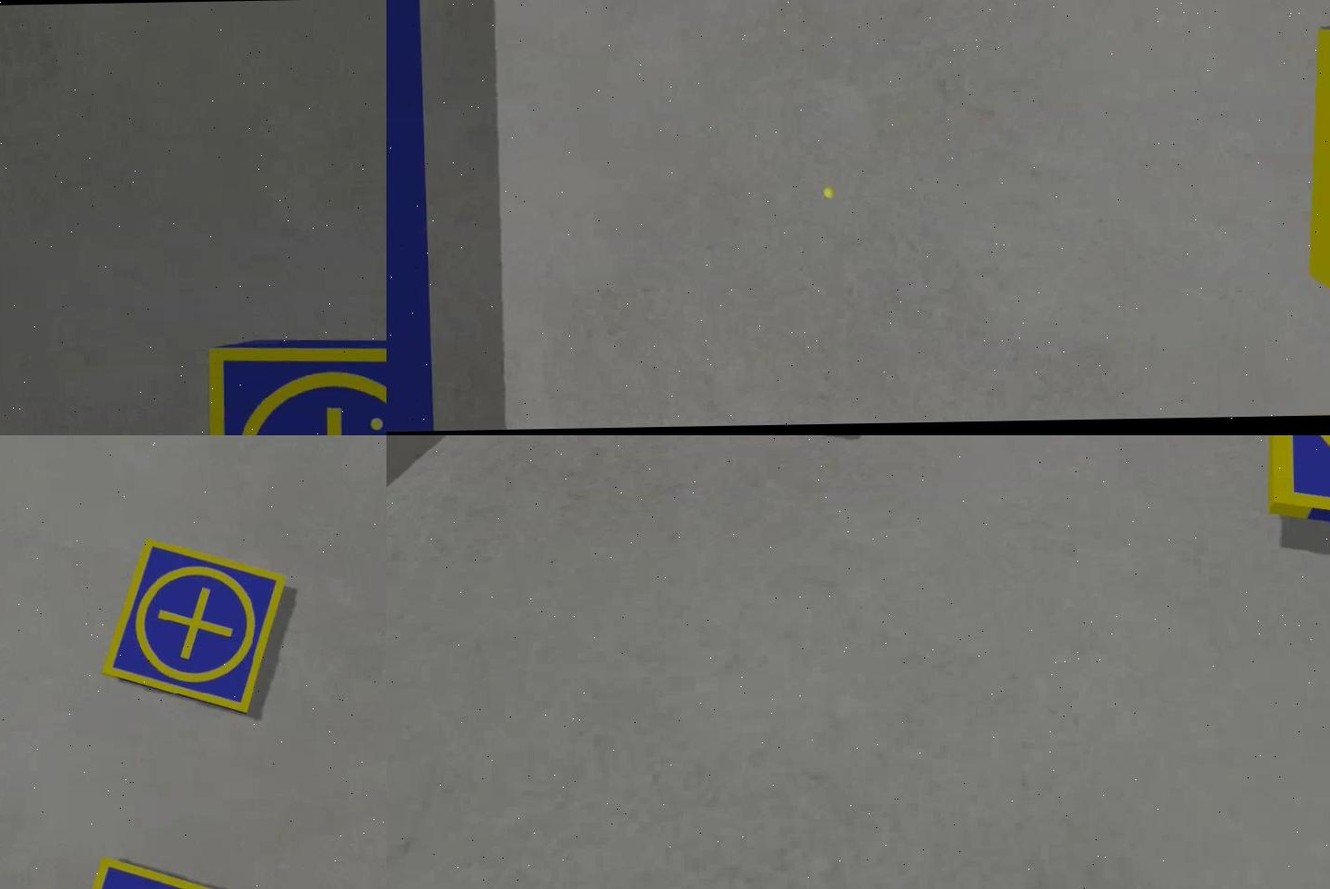large_base: (385, 1, 434, 435)
small_base: (98, 535, 285, 717), (211, 347, 385, 435)
